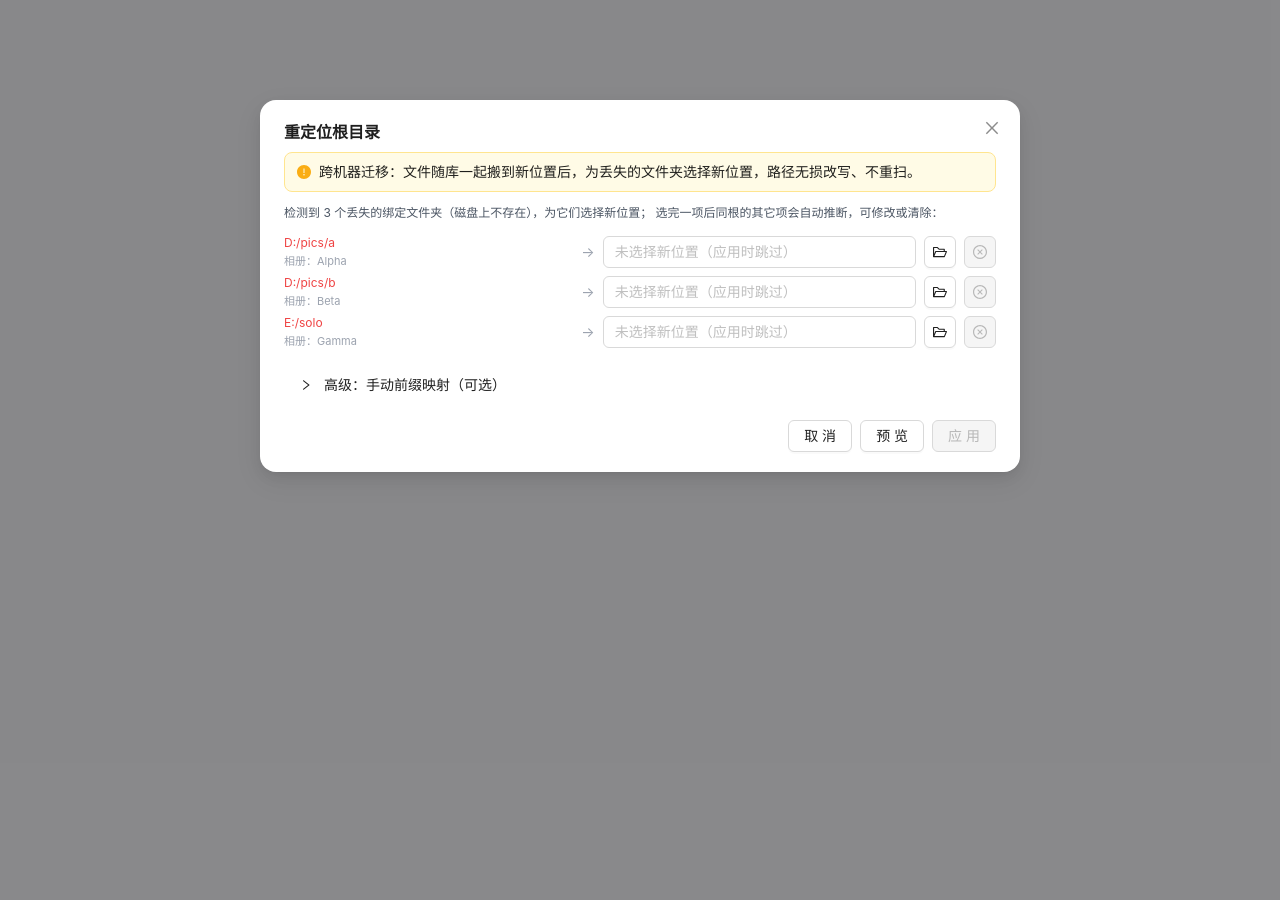
Scenario: RelocateRootModal › 丢失文件夹修复清单 › 选中 UNC 新位置（NAS 共享目录）时推断保留 \\ 前缀，不产出相对形态坏值
Expected: the text "检测到 3 个丢失的绑定文件夹（磁盘上不存在），为它们选择新位置； 选完一项后同根的其它项会自动推断，可修改或清除：" is shown, [284,204,996,223]
Click the button named "选择新位置" in the row of "Alpha" at (940, 252), box [924,236,956,268]
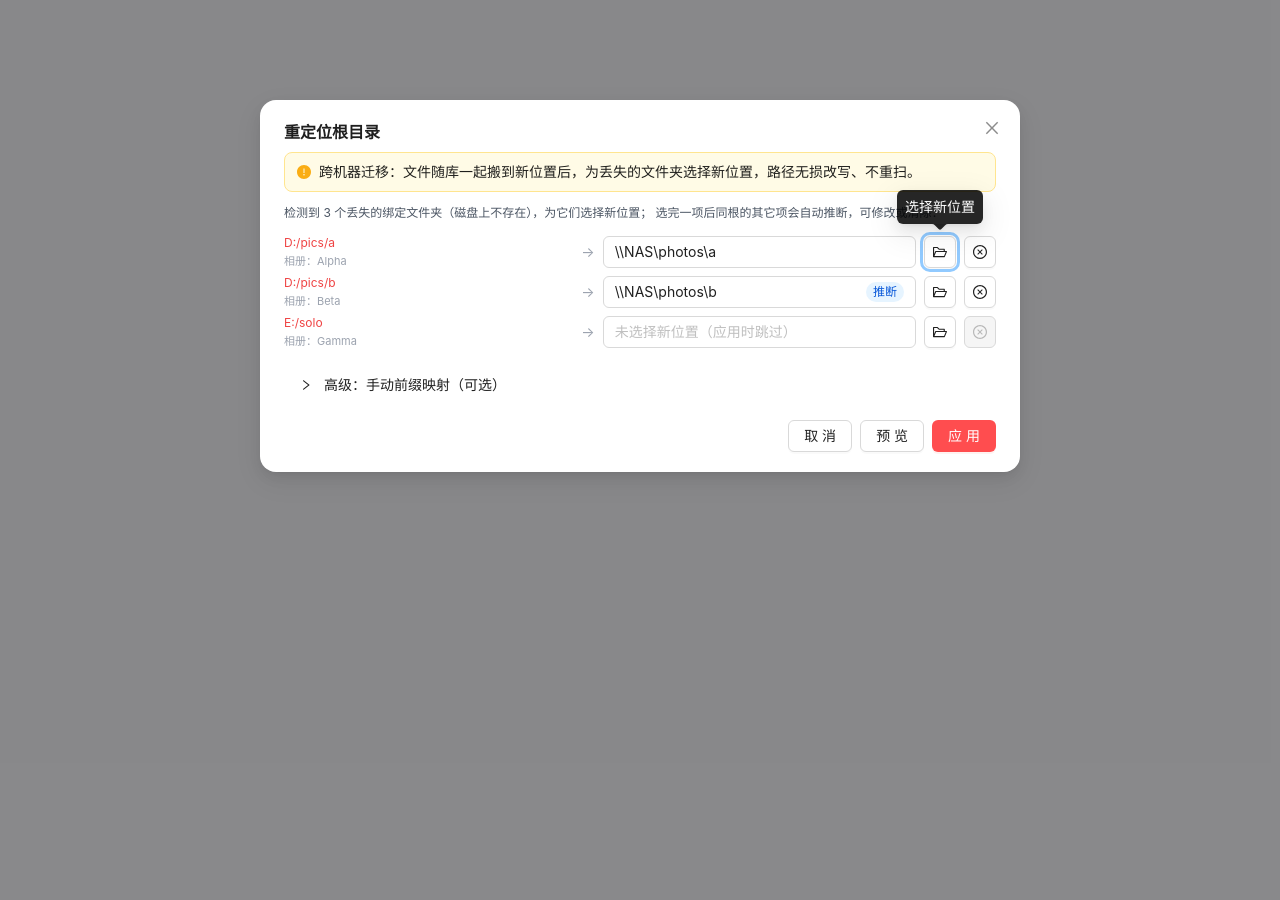
Expected: the field with placeholder "未选择新位置（应用时跳过）" is empty, [603,316,916,348]
Expected: the field with placeholder "未选择新位置（应用时跳过）" in the row of "Alpha" holds "\\\\NAS\\photos\\a", [603,236,916,268]
Expected: the field with placeholder "未选择新位置（应用时跳过）" in the row of "Beta" holds "\\\\NAS\\photos\\b", [615,281,862,303]
